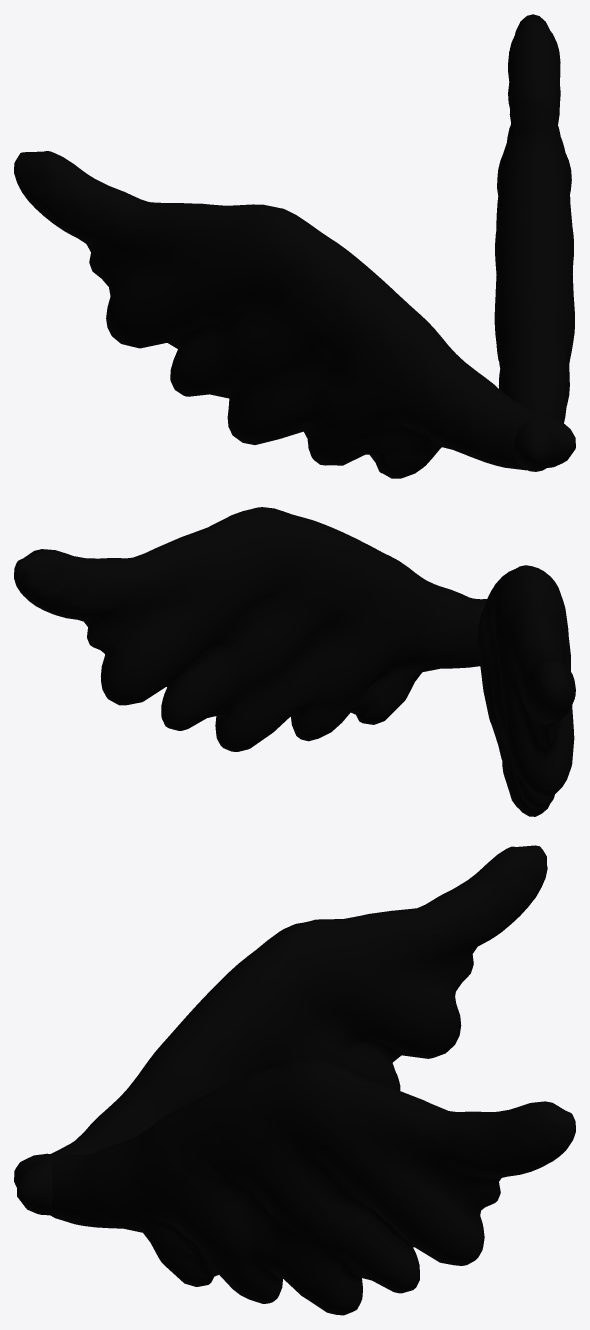
3 renders of one model, top to bottom at view 1: azimuth 30°, elevation 25°; view 2: azimuth 150°, elevation 25°; view 3: azimuth 270°, elevation 25°, orthographic. The views are drawn at different scales.
Visible parts, largest first — view 1: Mball.017, Mball.018; view 2: Mball.018, Mball.017; view 3: Mball.018, Mball.017.
Boxes of the visible parts, <box> form: Mball.017: <box>14,151,575,478</box>; Mball.018: <box>494,14,574,471</box>; Mball.018: <box>14,507,486,751</box>; Mball.017: <box>477,565,575,816</box>; Mball.018: <box>14,1059,575,1315</box>; Mball.017: <box>17,845,547,1215</box>.
Bounding box in the file's own units: 1.17 × 0.5232 × 0.9965.
1 material, 1 textured.
